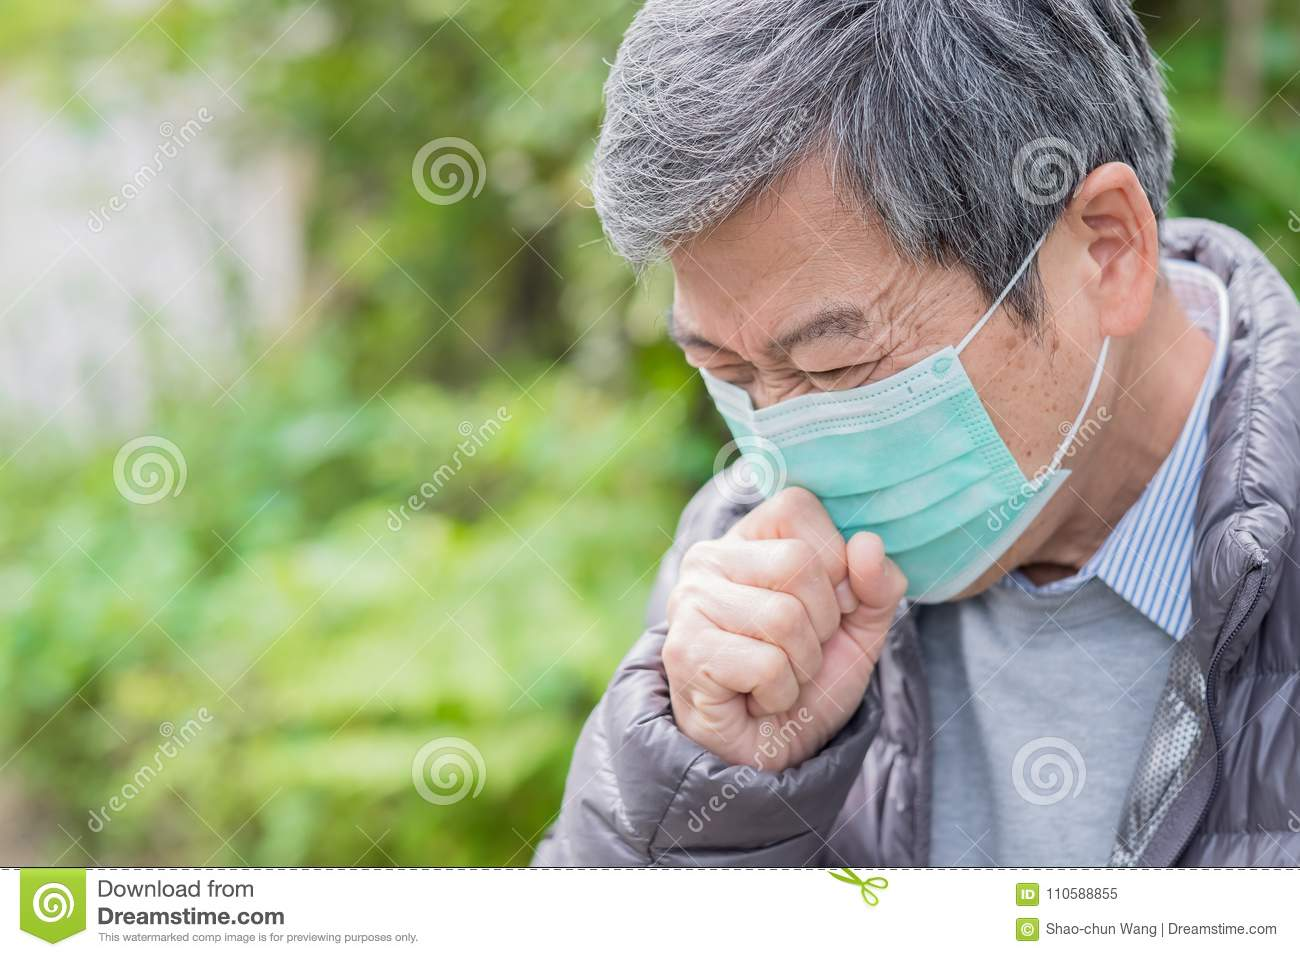mask: (691, 358, 1066, 616)
